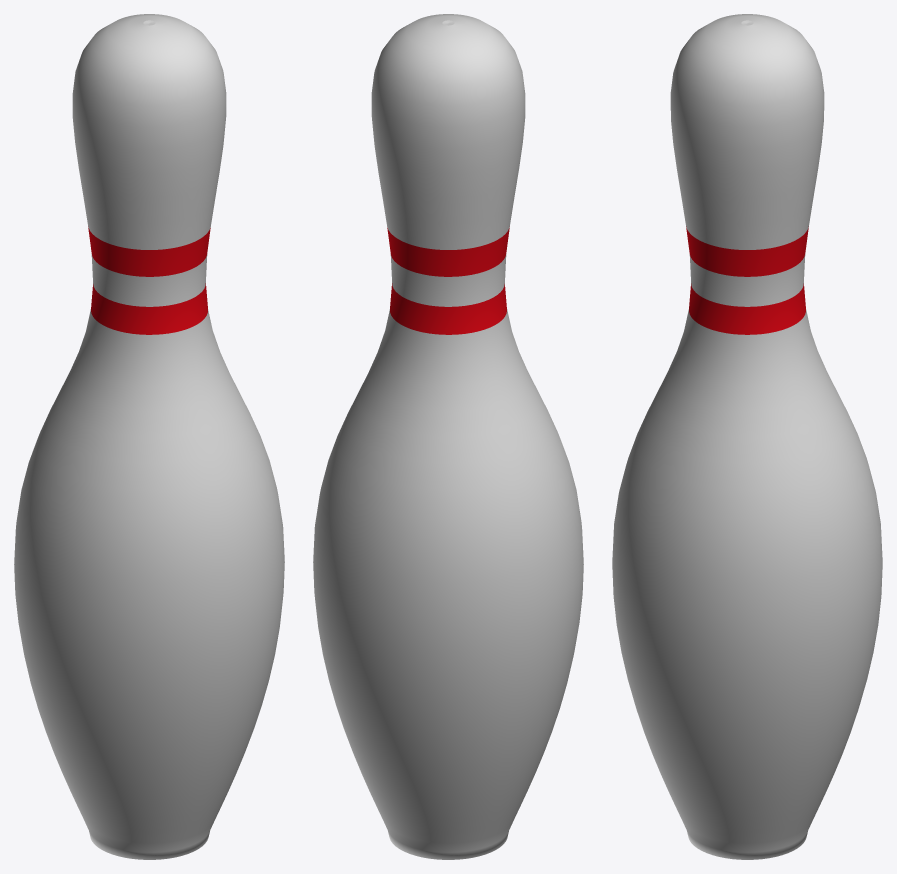
The model's file is bowlingpin.fbx.
3 views of the same model, side by side, from view 1: azimuth 30°, elevation 25°; view 2: azimuth 150°, elevation 25°; view 3: azimuth 270°, elevation 25° (orthographic).
Parts seen in each view (by area): view 1: BezierCurve; view 2: BezierCurve; view 3: BezierCurve.
Part boxes in pixels (<box>): BezierCurve: <box>14,14,284,859</box>; BezierCurve: <box>313,14,583,859</box>; BezierCurve: <box>612,14,882,859</box>.
Size of the model in its own units: 215 by 712 by 215.
